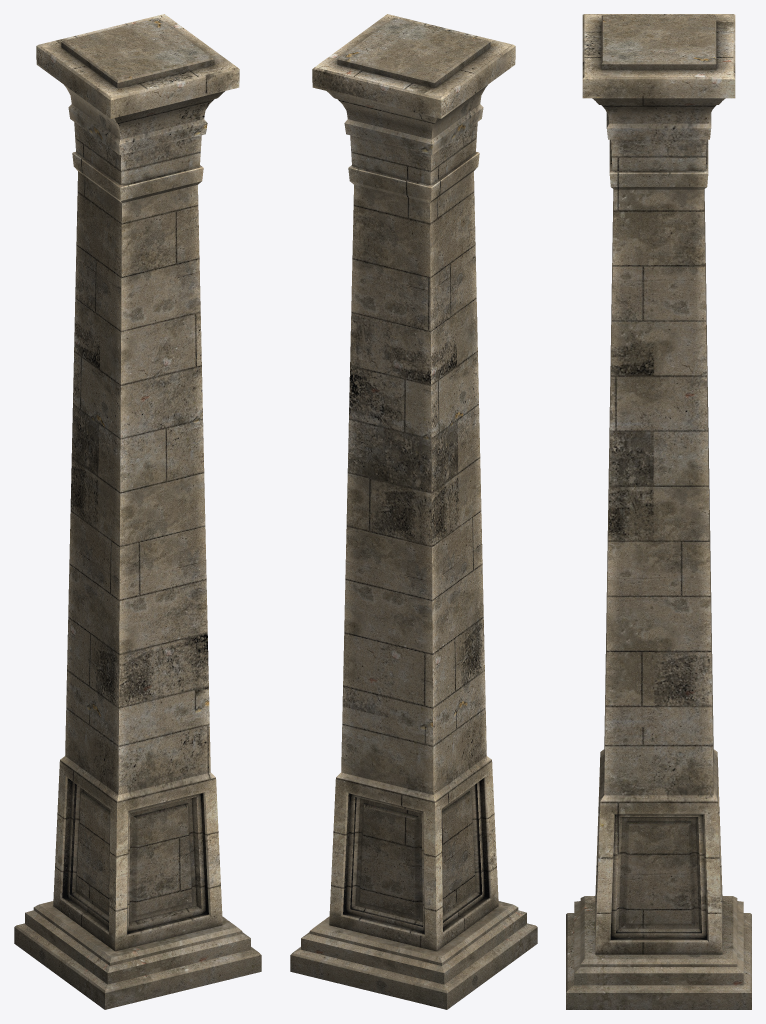
The model's file is neo-egypt_classical_obelisc_monument.glb.
The picture shows the model from 3 angles, left to right: view 1: azimuth 30°, elevation 25°; view 2: azimuth 150°, elevation 25°; view 3: azimuth 270°, elevation 25°; orthographic projection. The views are drawn at different scales.
Visible parts, largest first — view 1: ObeliscMonument_0; view 2: ObeliscMonument_0; view 3: ObeliscMonument_0.
Boxes of the visible parts, x1=… form: ObeliscMonument_0: x1=14, y1=14, x2=261, y2=1009; ObeliscMonument_0: x1=290, y1=14, x2=537, y2=1009; ObeliscMonument_0: x1=566, y1=14, x2=751, y2=1009.
Size of the model in its own units: 2.16 by 11.96 by 2.16.
1 material, 1 textured.
